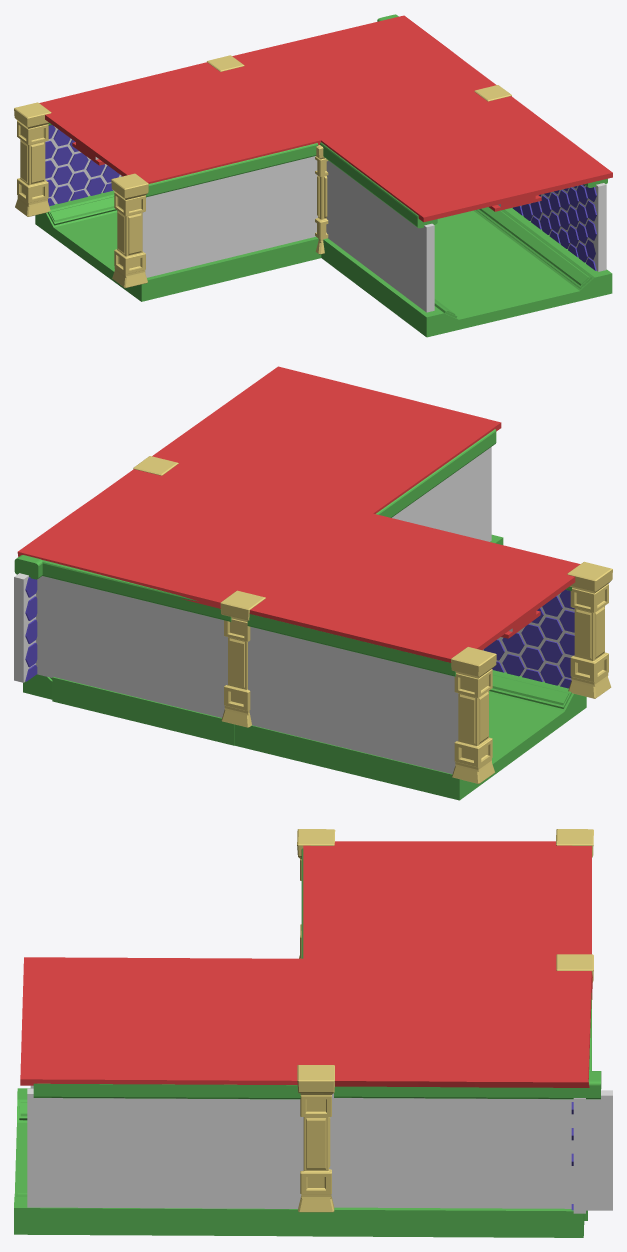
File: sagadirsek.fbx
3 renders of one model, top to bottom at view 1: azimuth 30°, elevation 25°; view 2: azimuth 150°, elevation 25°; view 3: azimuth 270°, elevation 25°, orthographic. The views are drawn at different scales.
Visible parts, largest first — view 1: Cube.002; view 2: Cube.002; view 3: Cube.002.
Part boxes in pixels (<box>): Cube.002: <box>14,14,612,337</box>; Cube.002: <box>14,366,612,800</box>; Cube.002: <box>14,829,612,1237</box>.
Size of the model in its own units: 4711 by 1381 by 4721.
